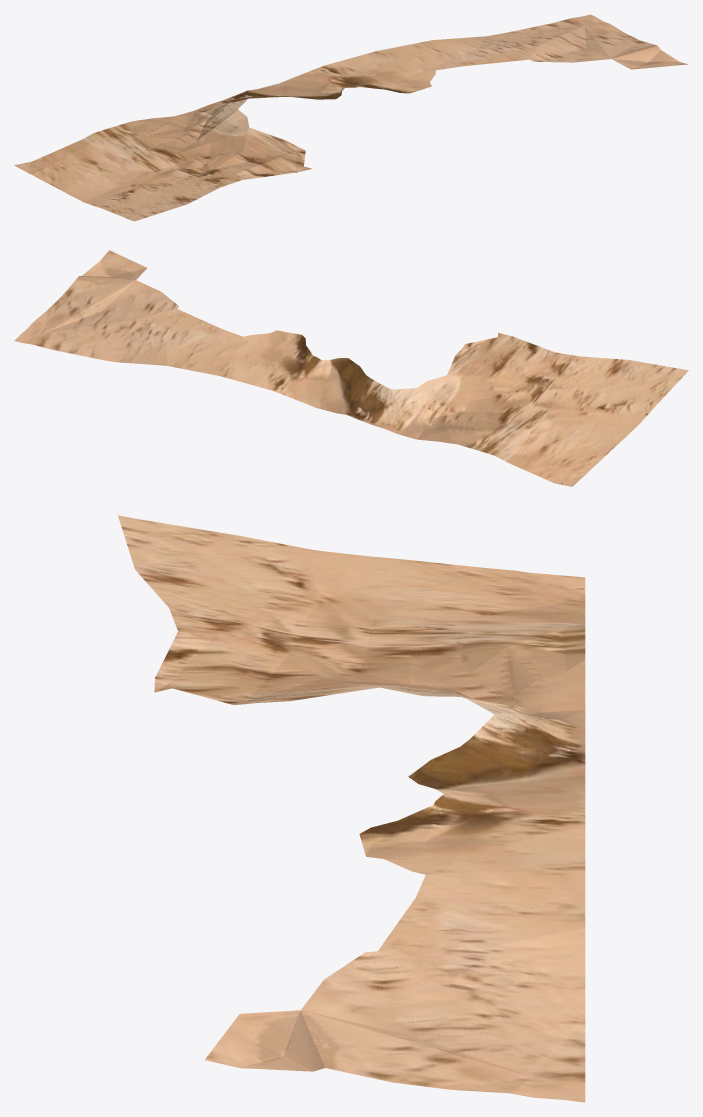
3 renders of one model, top to bottom at view 1: azimuth 30°, elevation 25°; view 2: azimuth 150°, elevation 25°; view 3: azimuth 270°, elevation 25°, orthographic. The views are drawn at different scales.
Bounding box in the file's own units: 1.04 × 0.0568 × 0.3787.
Materials: 1 (1 with a texture image).
